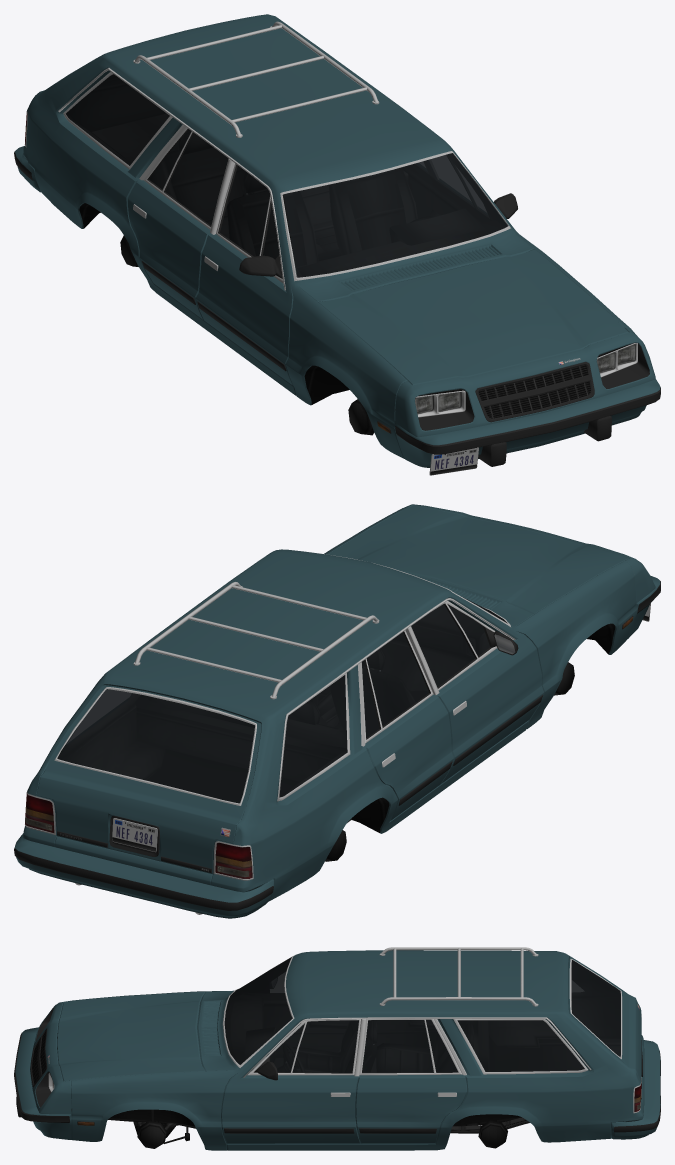
Rendered from fairheaven.glb.
3 views of the same model, one above another, from view 1: azimuth 30°, elevation 25°; view 2: azimuth 150°, elevation 25°; view 3: azimuth 270°, elevation 25° (orthographic). The views are drawn at different scales.
Visible parts, largest first — view 1: part6, part2, part0, part3, part8, part5; view 2: part6, part2, part3, part0, part1, part5; view 3: part6, part2, part3, part0.
Boxes of the visible parts, bbox=[...] form: part6: bbox=[14, 14, 660, 467]; part2: bbox=[25, 74, 635, 413]; part0: bbox=[14, 21, 660, 466]; part3: bbox=[66, 113, 507, 277]; part8: bbox=[415, 345, 635, 413]; part5: bbox=[429, 447, 478, 475]; part6: bbox=[14, 504, 660, 918]; part2: bbox=[25, 596, 507, 877]; part3: bbox=[57, 604, 506, 802]; part0: bbox=[14, 552, 660, 914]; part1: bbox=[25, 795, 252, 878]; part5: bbox=[112, 603, 650, 852]; part6: bbox=[15, 950, 660, 1150]; part2: bbox=[53, 958, 641, 1109]; part3: bbox=[224, 957, 620, 1072]; part0: bbox=[14, 947, 660, 1148].
Bounding box in the file's own units: 1.86 × 1.24 × 5.03.
9 materials, 8 textured.
